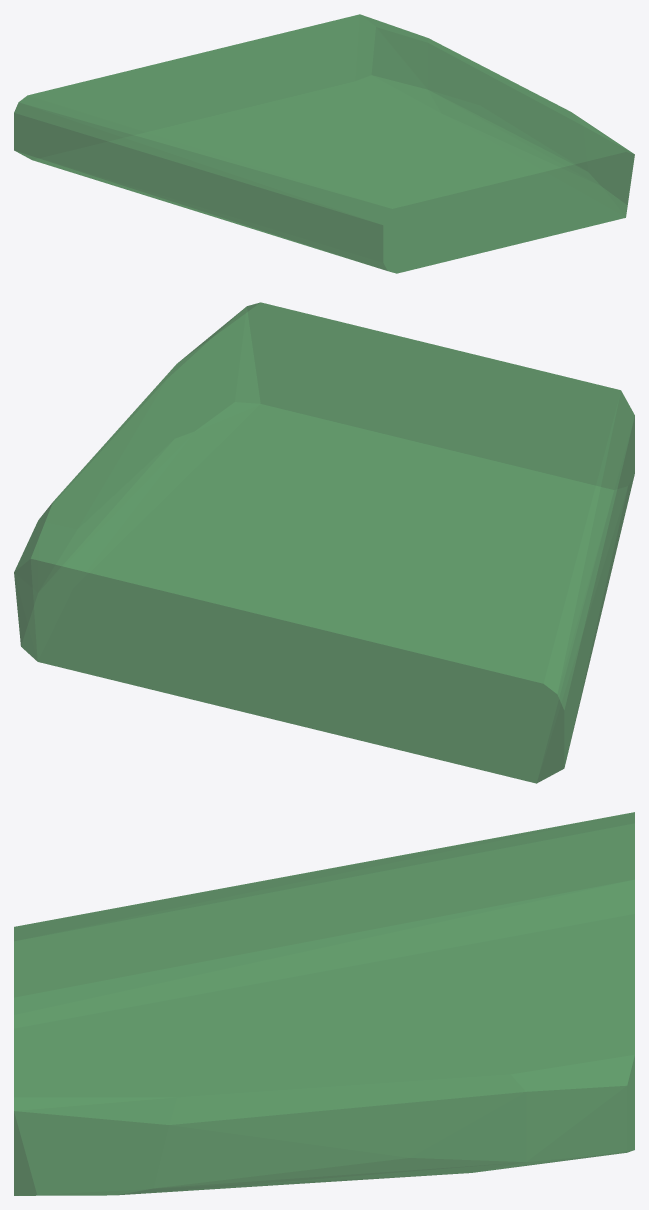
The picture shows the model from 3 angles, top to bottom: view 1: azimuth 30°, elevation 25°; view 2: azimuth 150°, elevation 25°; view 3: azimuth 270°, elevation 25°; orthographic projection. The views are drawn at different scales.
Parts seen in each view (by area): view 1: Shape_IndexedFaceSet.003_Shape_IndexedFaceSet.17155; view 2: Shape_IndexedFaceSet.003_Shape_IndexedFaceSet.17155; view 3: Shape_IndexedFaceSet.003_Shape_IndexedFaceSet.17155.
Boxes of the visible parts, x1,y1,x2,y2 form: Shape_IndexedFaceSet.003_Shape_IndexedFaceSet.17155: [14, 14, 634, 273]; Shape_IndexedFaceSet.003_Shape_IndexedFaceSet.17155: [14, 302, 634, 783]; Shape_IndexedFaceSet.003_Shape_IndexedFaceSet.17155: [14, 812, 634, 1195].
Size of the model in its own units: 0.1557 by 0.0237 by 0.1354.
